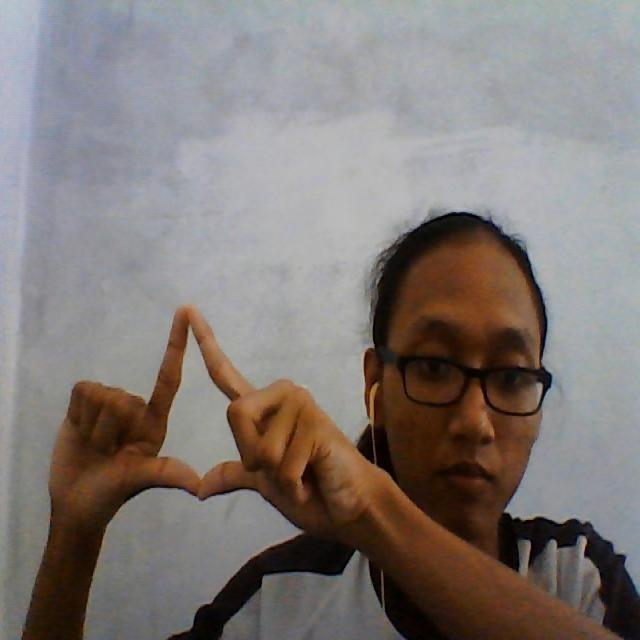A: (79, 292, 326, 522)
